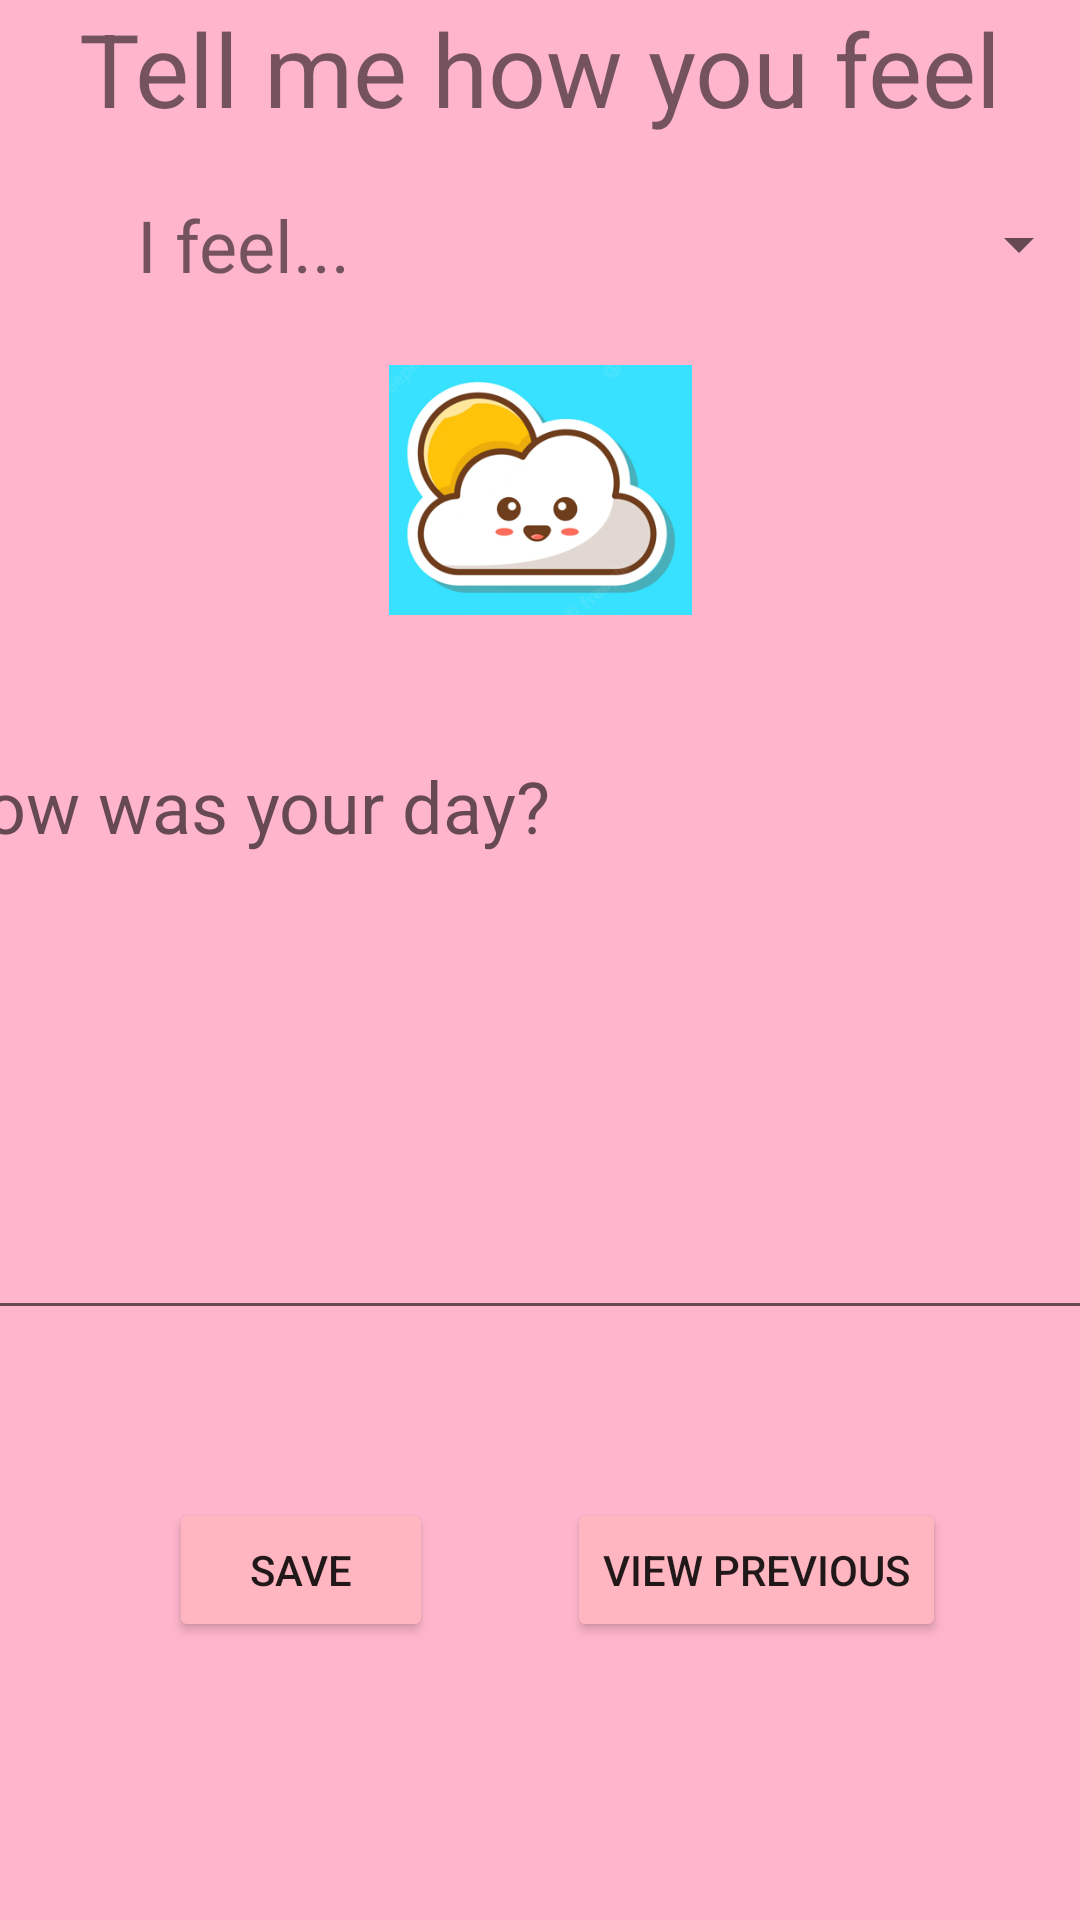

Named icons in this screenshot (1080 × 1920) and their bounding boxes, detection(x1, y1, x2, y2):
happy: detection(389, 365, 692, 615)
